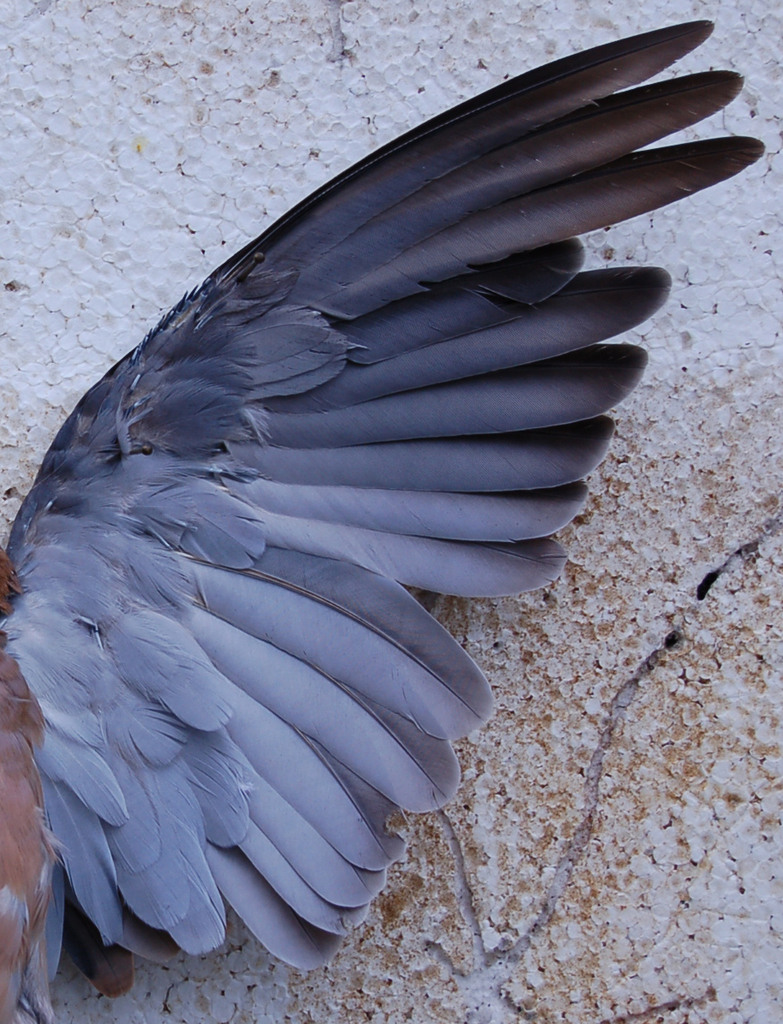Animal: (0, 17, 768, 1018)
